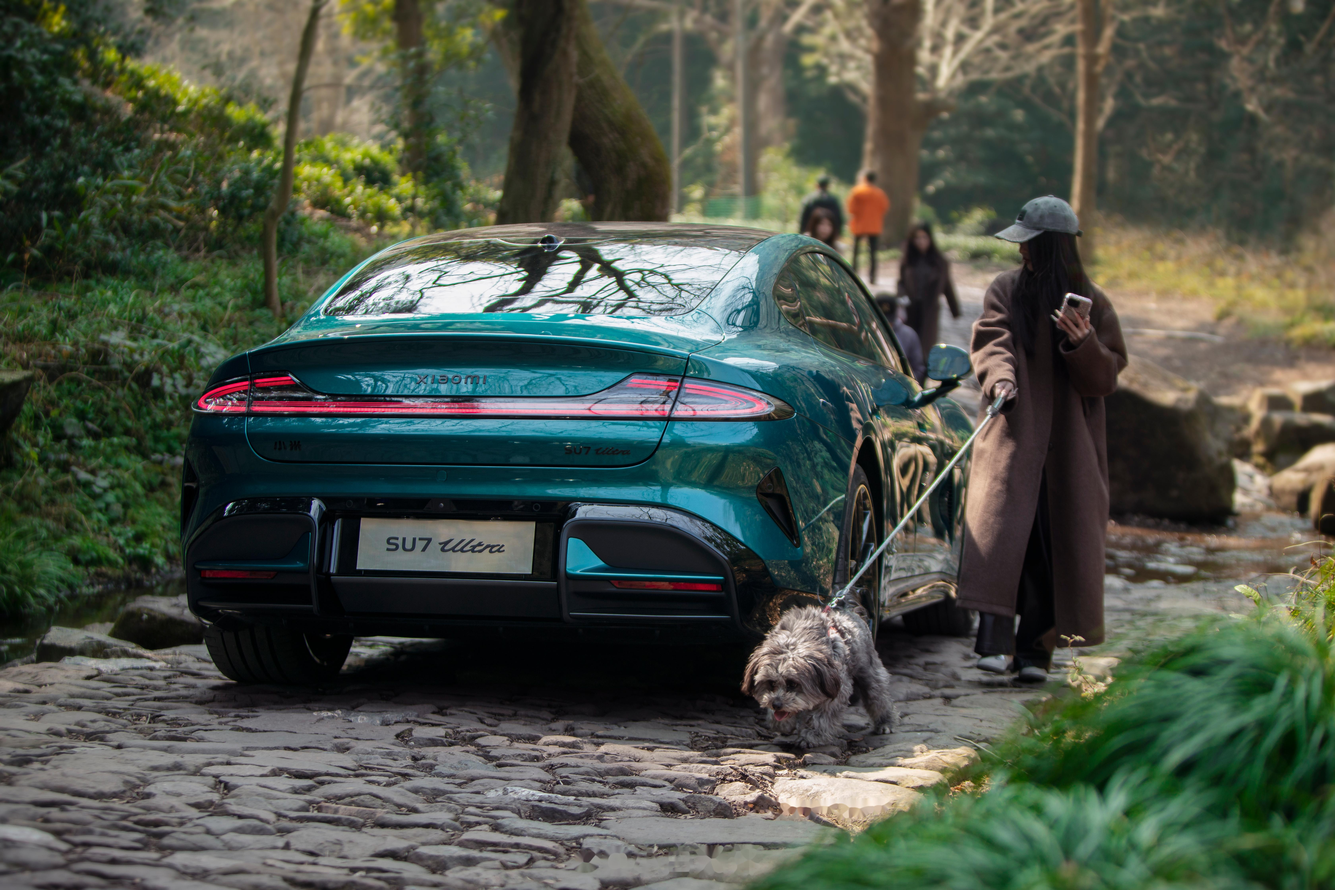su7: (180, 229, 977, 701)
